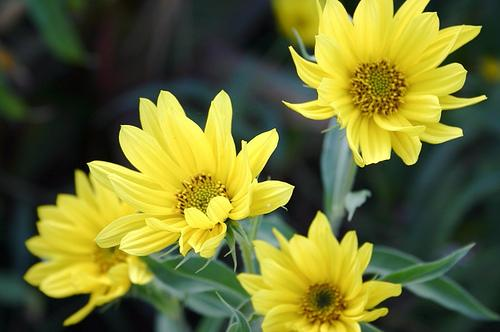sunflower: (92, 87, 291, 255), (288, 0, 489, 166), (240, 212, 399, 332)
